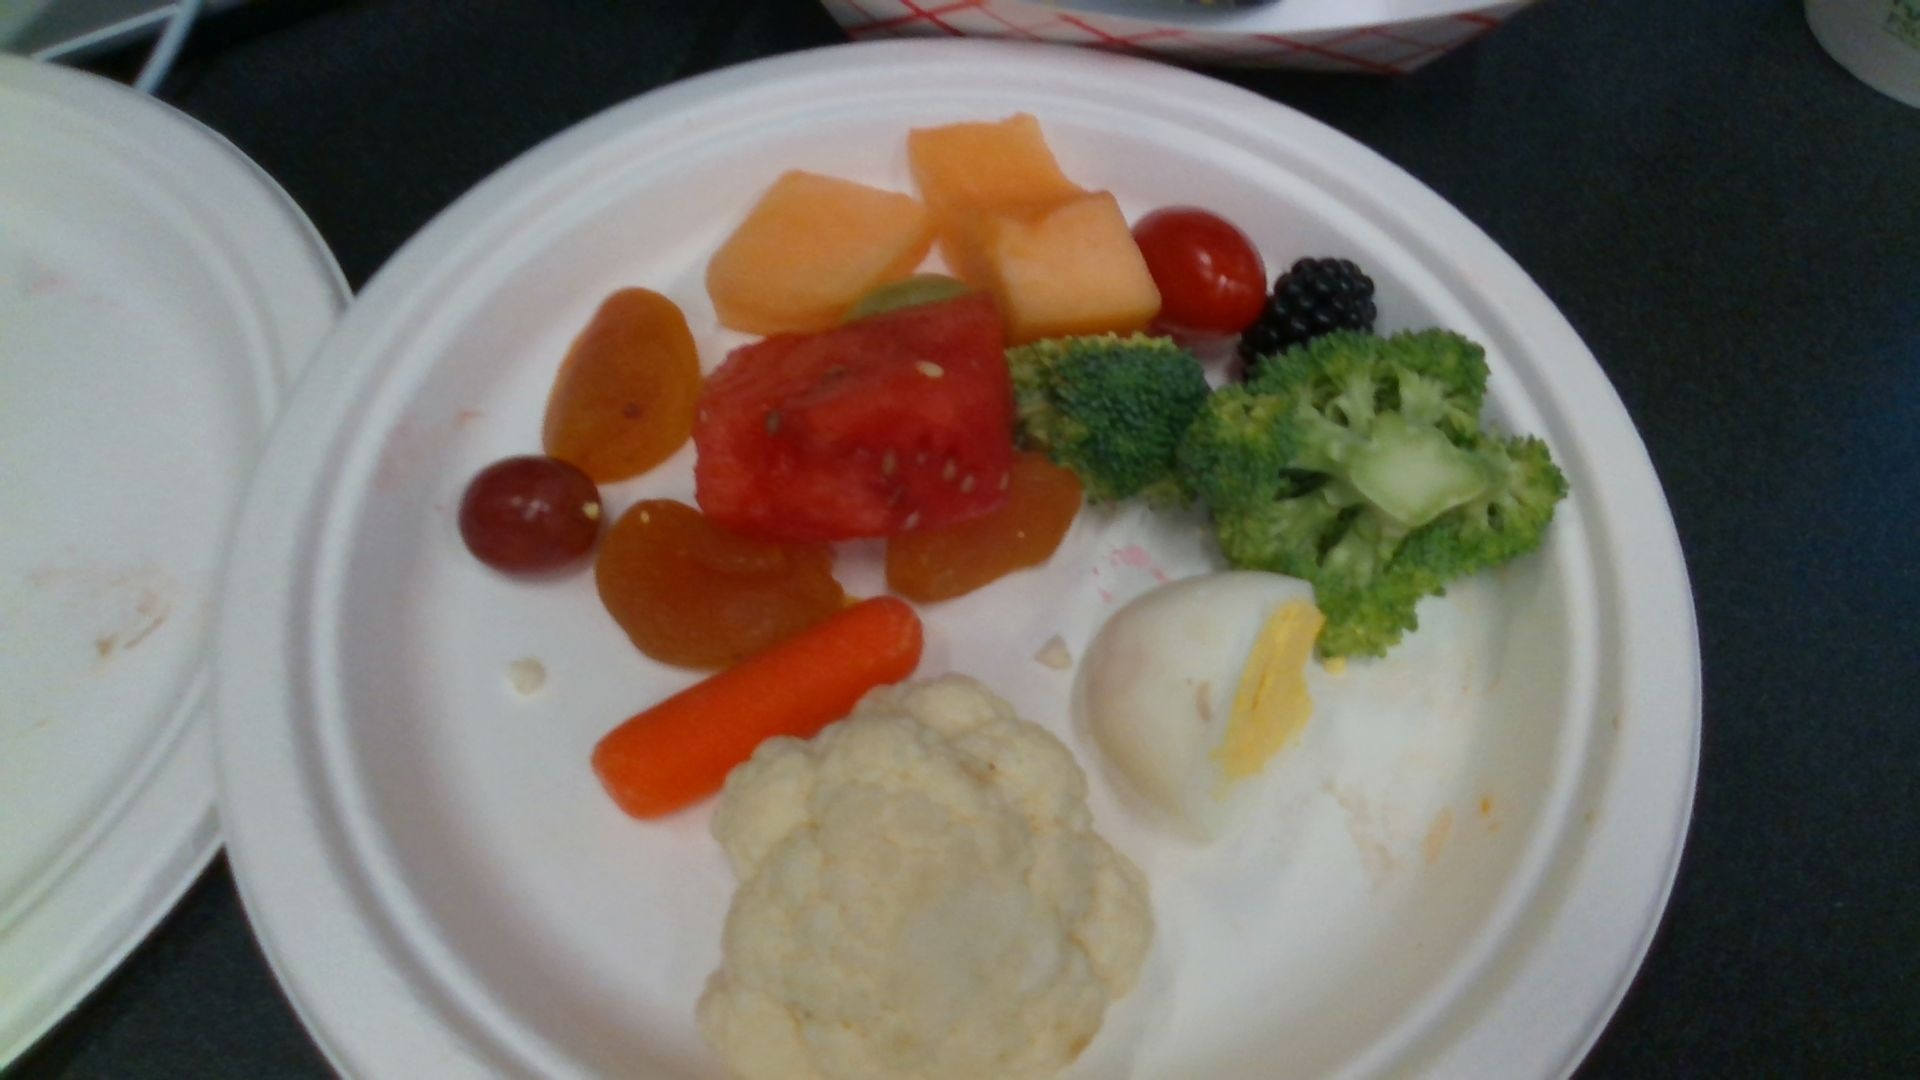apricot: (595, 501, 847, 666), (545, 290, 698, 483), (887, 455, 1087, 600)
blackberry: (1240, 258, 1374, 381)
broccoli: (1179, 328, 1564, 663), (1011, 338, 1211, 501)
cantalope: (910, 116, 1160, 331), (709, 175, 934, 331)
carrot: (595, 600, 927, 818)
cauliflower: (692, 676, 1155, 1075)
cherry_tomato: (1131, 206, 1267, 331)
egg: (1091, 568, 1325, 841)
grape_purple: (462, 462, 603, 570)
melon: (699, 293, 1011, 527)
